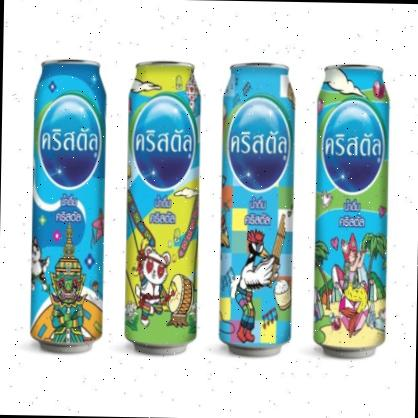can: (122, 58, 202, 355), (217, 58, 296, 358), (28, 57, 107, 354), (312, 62, 390, 360)
